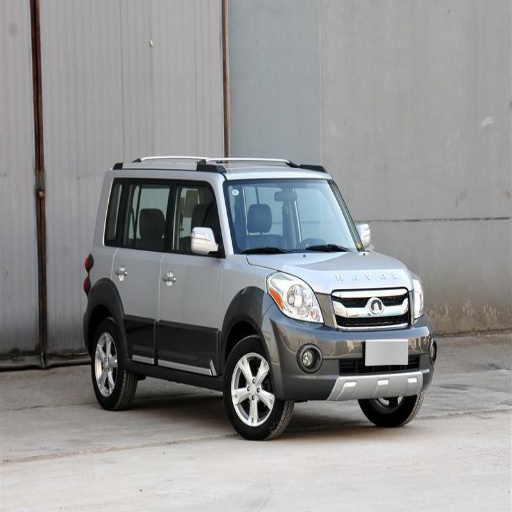front_bumper: (268, 288, 434, 401)
front_right_door: (158, 179, 222, 372)
front_right_light: (269, 273, 325, 325)
hood: (247, 250, 411, 292)
